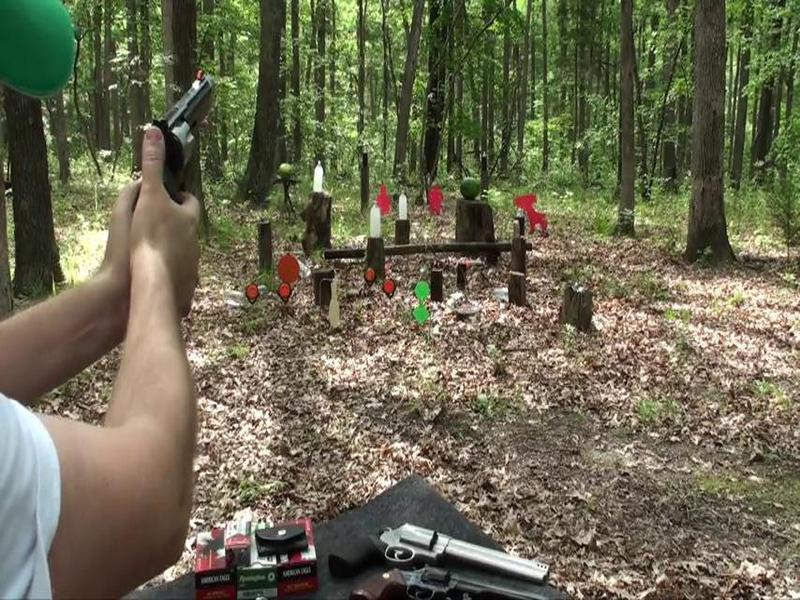Revolver: (136, 64, 230, 229)
